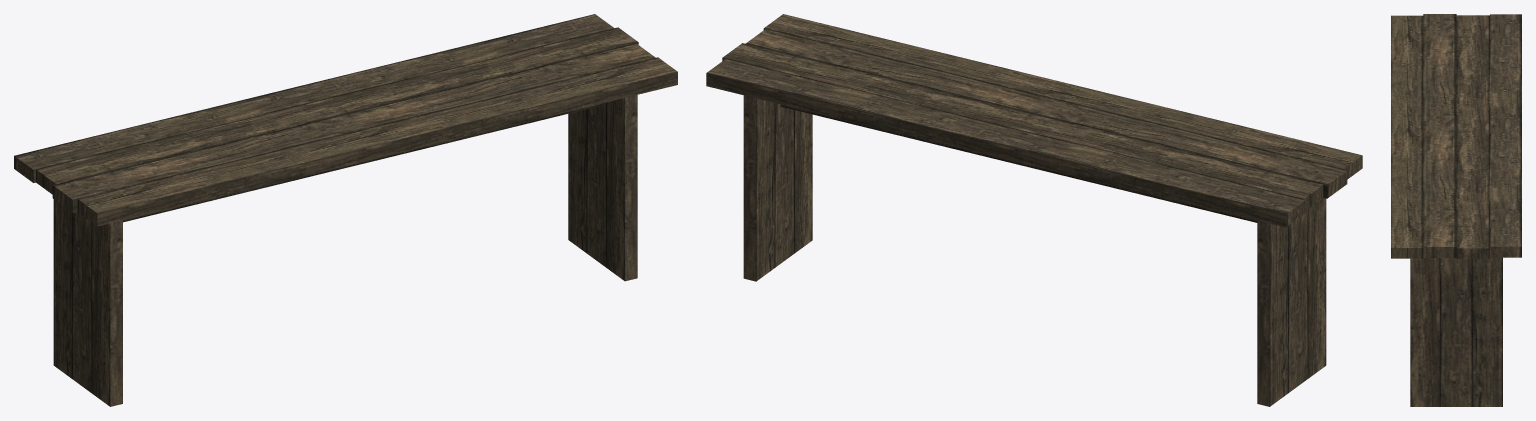
Rendered from bench_mx_1_1.obj.
3 renders of one model, left to right at view 1: azimuth 30°, elevation 25°; view 2: azimuth 150°, elevation 25°; view 3: azimuth 270°, elevation 25°, orthographic. The views are drawn at different scales.
Visible parts, largest first — view 1: bench_mx_1_1; view 2: bench_mx_1_1; view 3: bench_mx_1_1.
Boxes of the visible parts, bbox=[...] form: bench_mx_1_1: bbox=[14, 14, 677, 406]; bench_mx_1_1: bbox=[706, 14, 1362, 406]; bench_mx_1_1: bbox=[1391, 14, 1521, 406].
Bounding box in the file's own units: 1.86 × 0.63 × 0.438.
